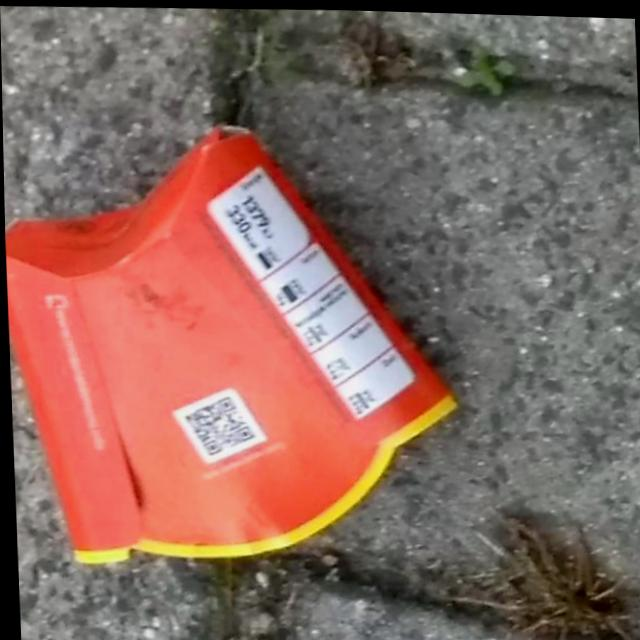Paper: (2, 113, 470, 579)
